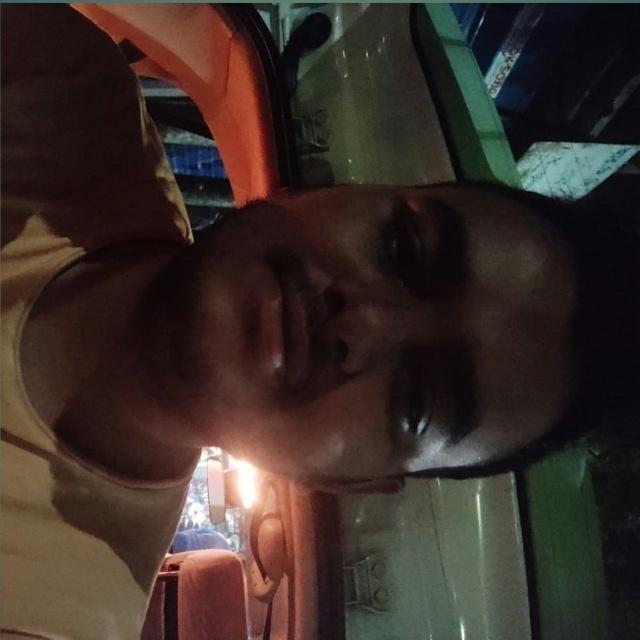Happy: (113, 85, 560, 530)
